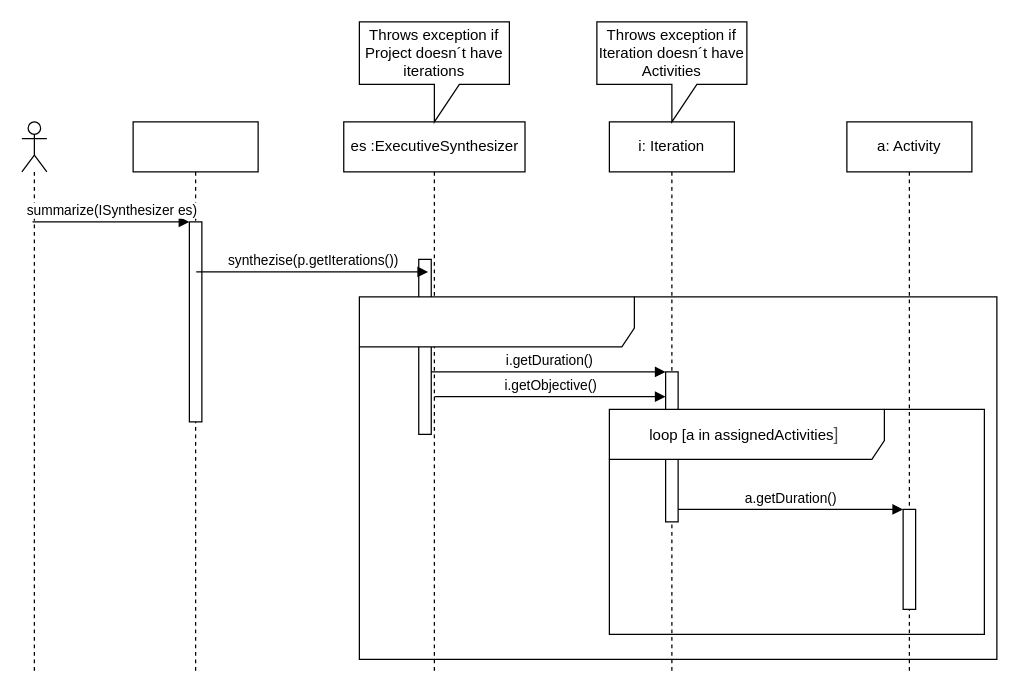
This 1019x694 diagram has some shape labels left out. The shapes that lost their labels are listed below. From the top down, each one's centre as x and y in pixels, then its label:
At (x=195, y=396): "Proyect".
At (x=677, y=477): "loop [i in Iterations ]".
